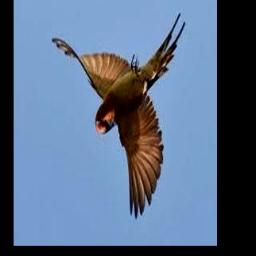Swallow: (51, 12, 185, 219)
